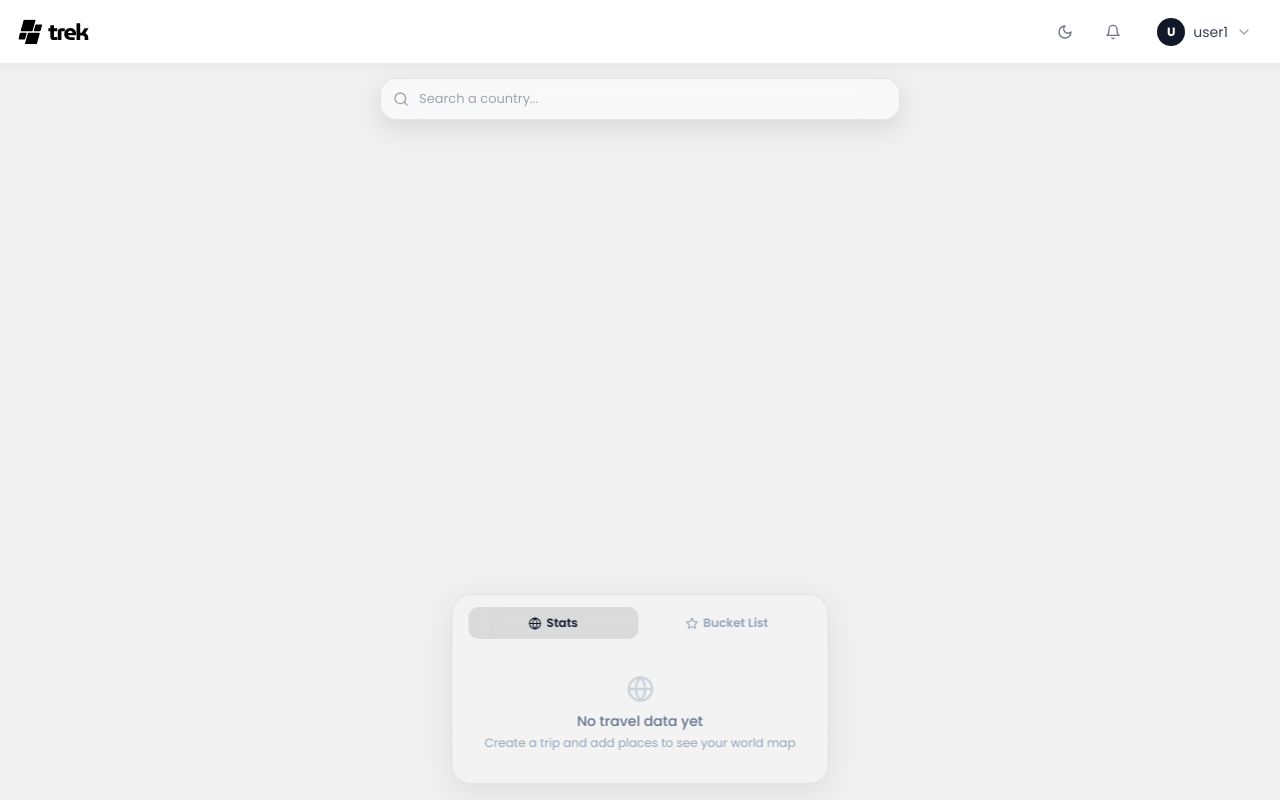
AtlasPage › FE-PAGE-ATLAS-006: bucket list tab switch shows bucket content › clicking the Bucket List tab reveals bucket-list content
Click the button "Bucket List". click: (727, 623)
box: top-left (642, 607), bottom-right (812, 639)
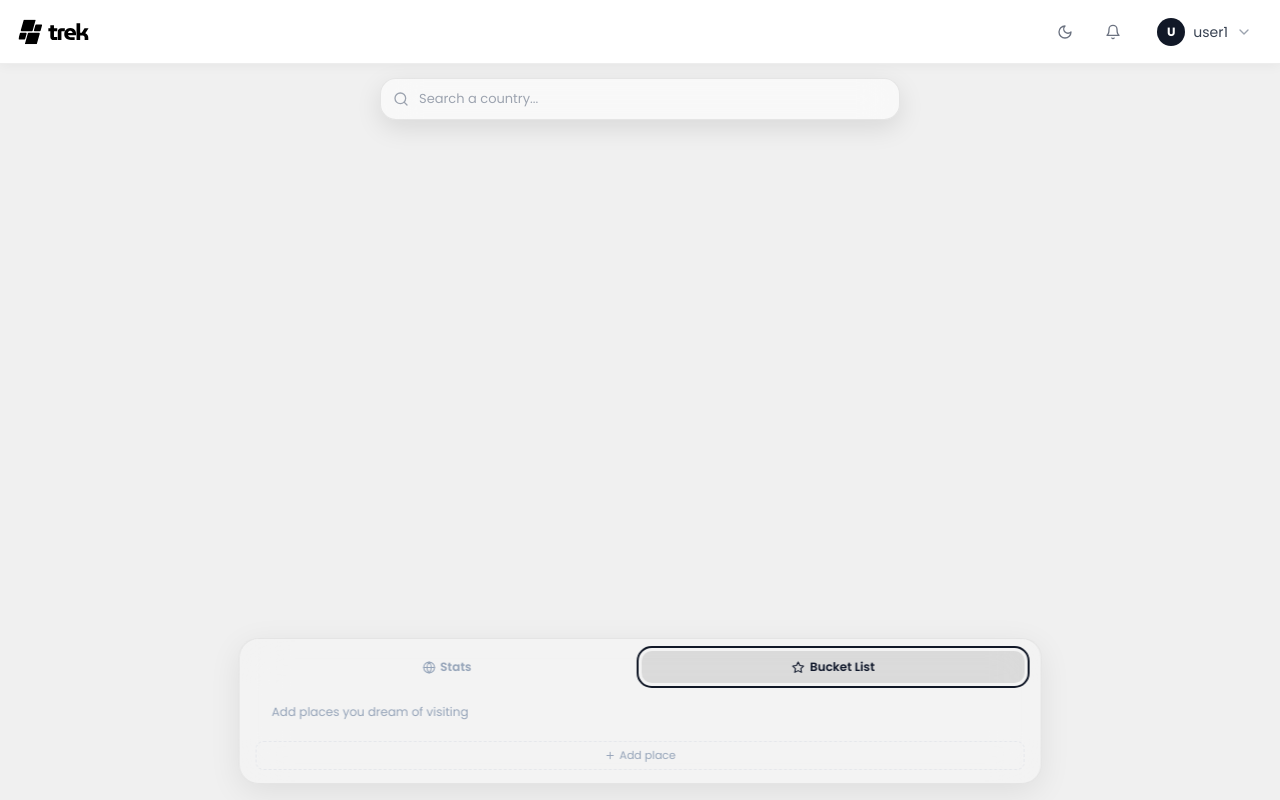
expect the text "Add places you dream of visiting" is shown: met, box top-left (272, 703), bottom-right (468, 720)
